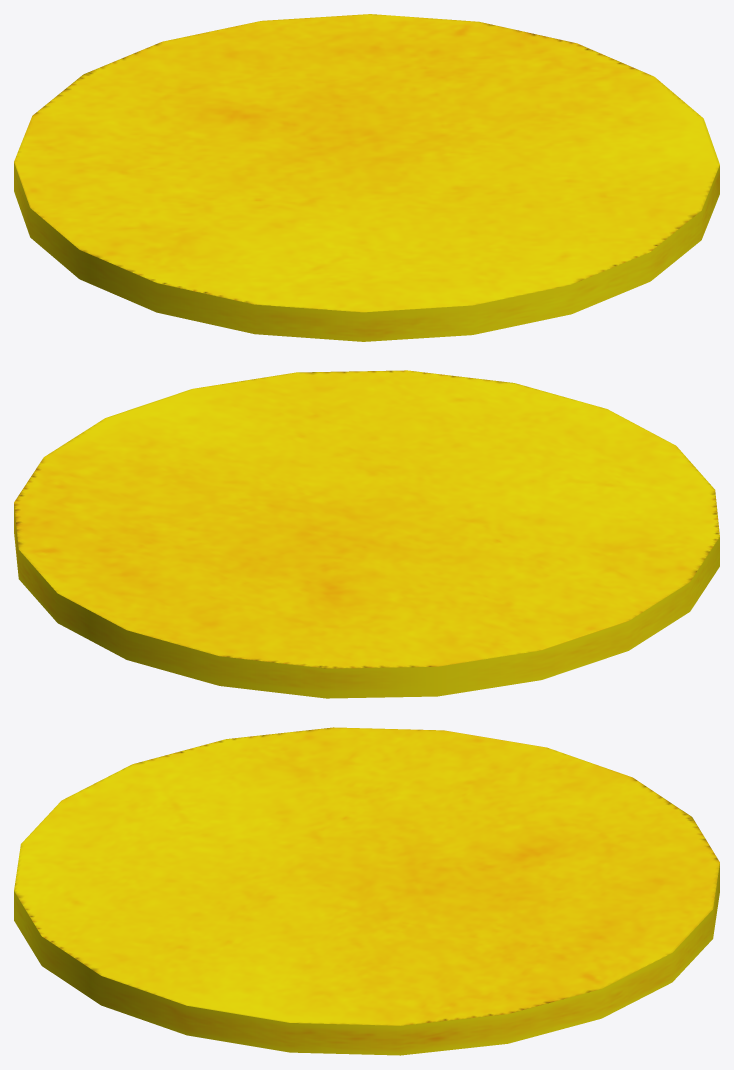
File: crmdisc.obj
3 views of the same model, one above another, from view 1: azimuth 30°, elevation 25°; view 2: azimuth 150°, elevation 25°; view 3: azimuth 270°, elevation 25° (orthographic).
Parts seen in each view (by area): view 1: pCylinder13_AnimatedDisks; view 2: pCylinder13_AnimatedDisks; view 3: pCylinder13_AnimatedDisks.
Boxes of the visible parts, box(x1,y1,x2,y2) form: pCylinder13_AnimatedDisks: box(14, 14, 719, 341); pCylinder13_AnimatedDisks: box(14, 370, 719, 698); pCylinder13_AnimatedDisks: box(14, 727, 719, 1055).
Bounding box in the file's own units: 1.39 × 0.0646 × 1.39.
1 material, 1 textured.
